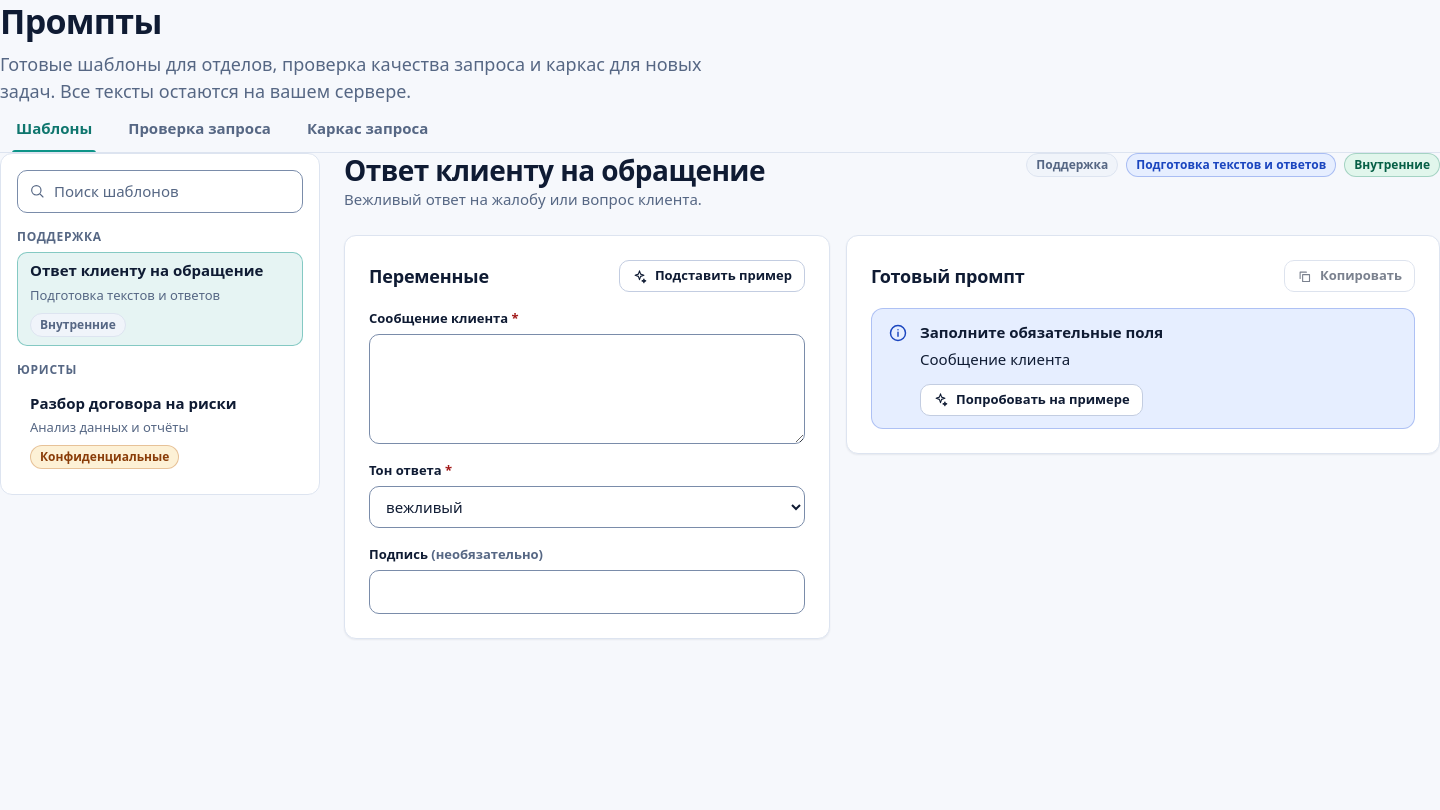
Scenario: PromptsPage: проверка и каркас › каркас: собирает текст и по кнопке «Проверить» отправляет его в линтер
Click the tab "Каркас запроса" at coordinates (368, 128), box [291, 104, 444, 152]
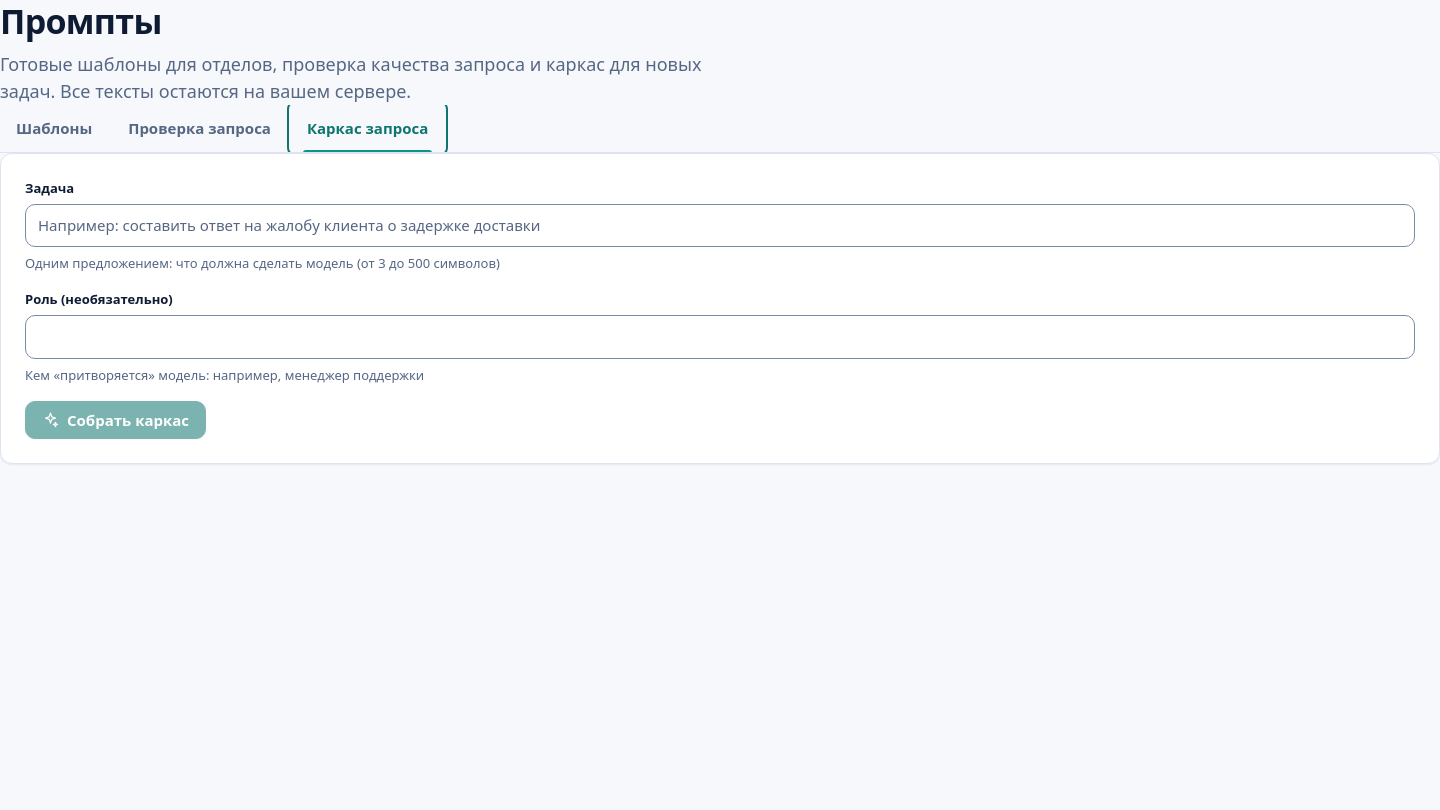
Type "проверить договор" into the field labelled "Задача" at coordinates (720, 226), box [25, 204, 1415, 247]
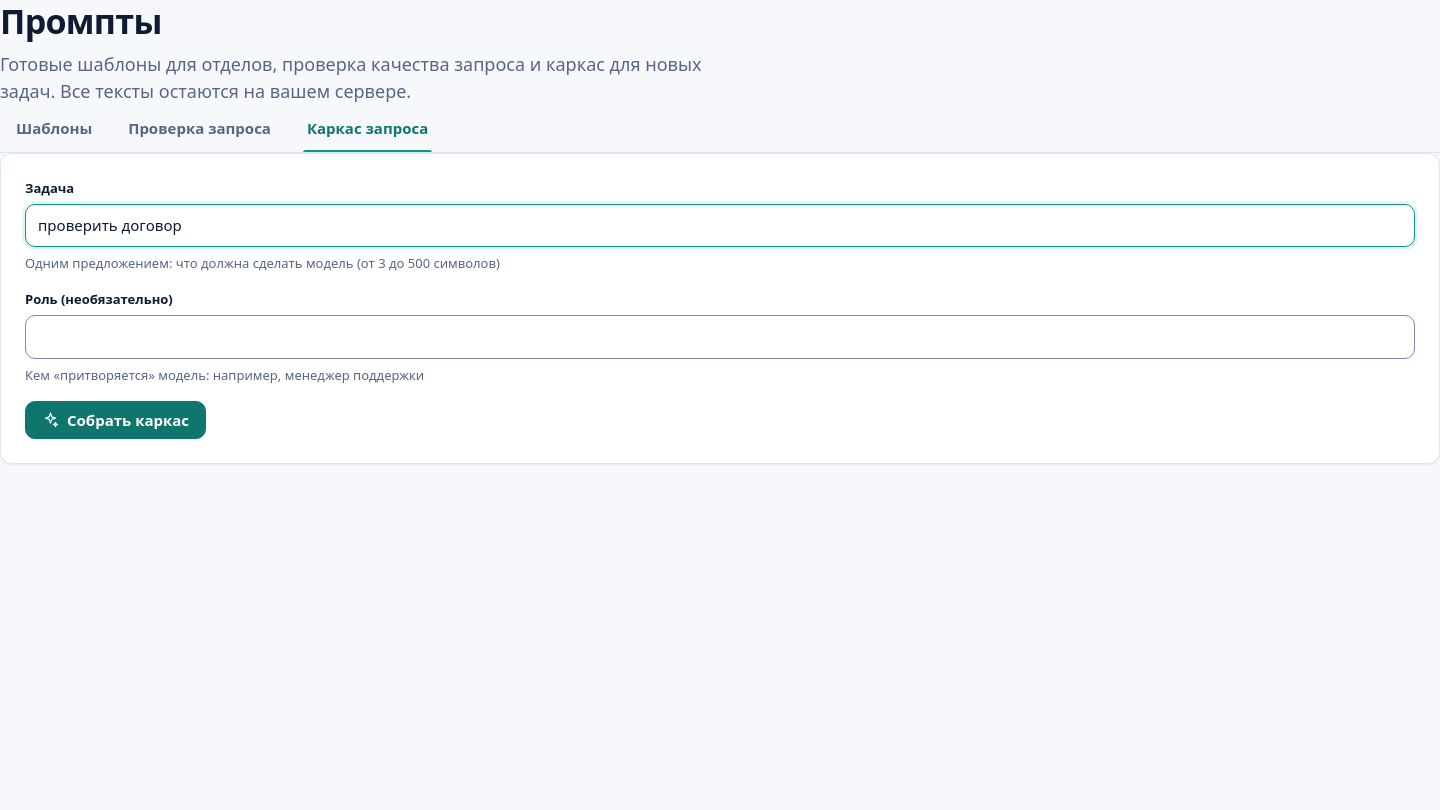
Type "Юрист" into the field labelled "Роль (необязательно)" at coordinates (720, 337), box [25, 315, 1415, 359]
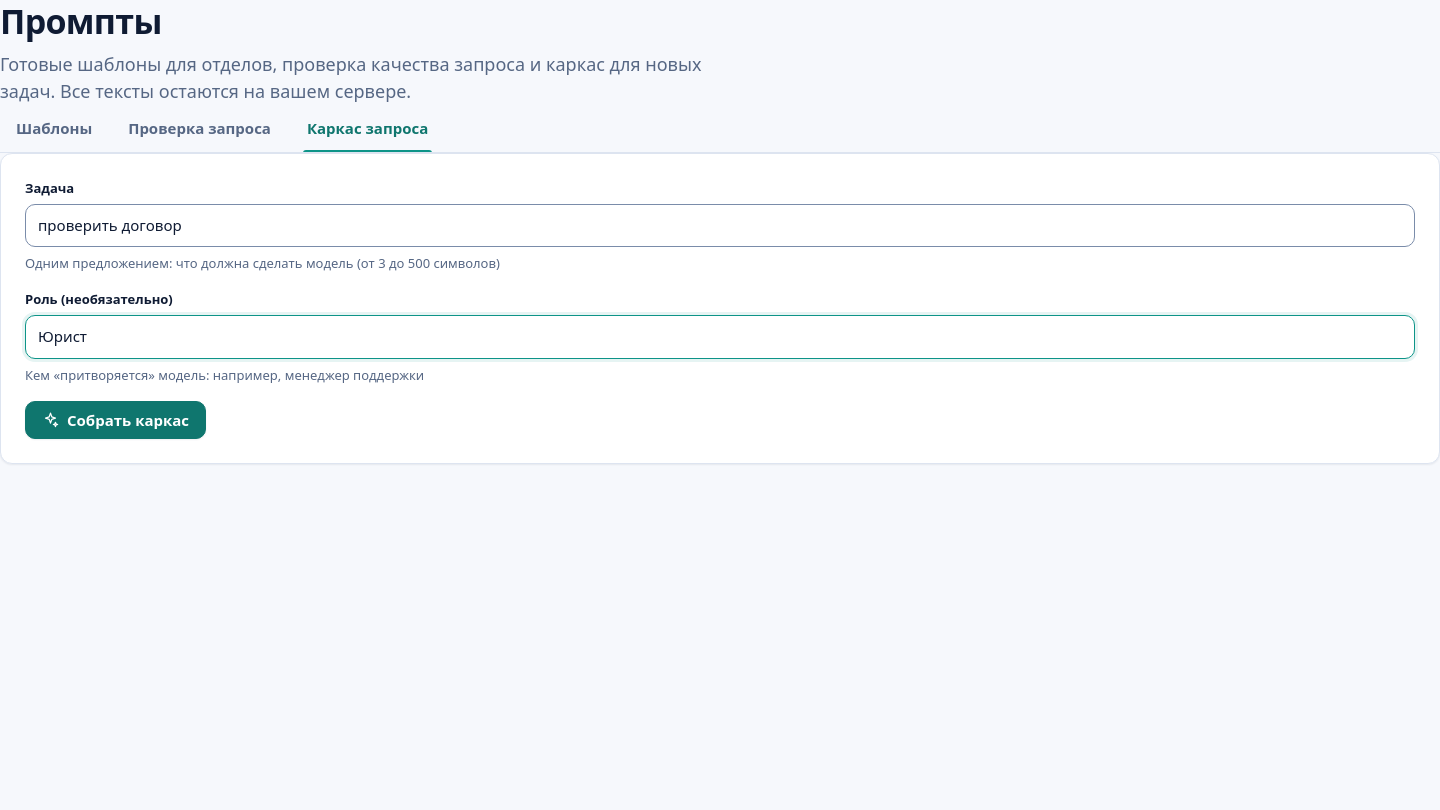
Click the button "Собрать каркас" at coordinates (116, 420), box [25, 401, 206, 439]
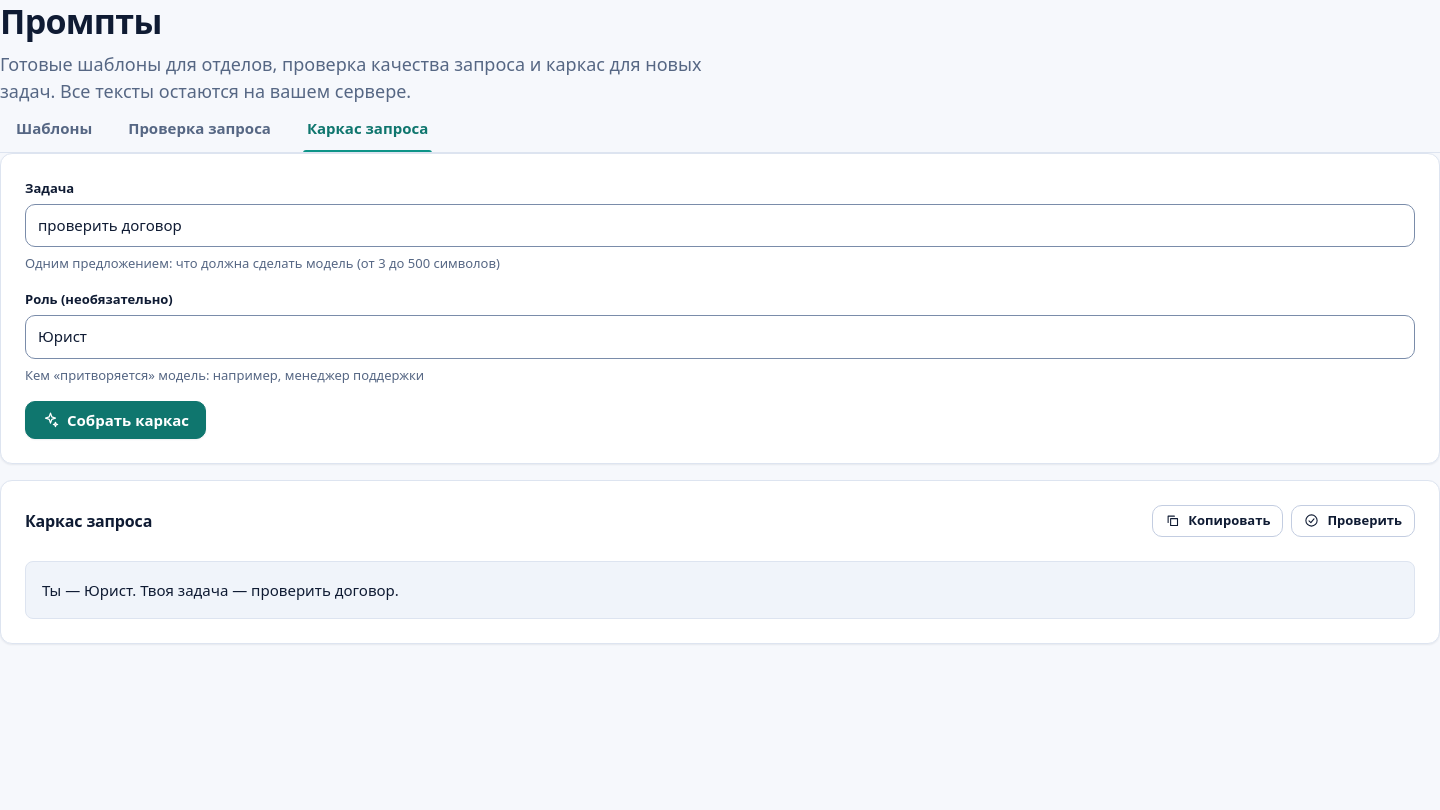
Expected: the text with test id "scaffold-text" reads "Ты — Юрист. Твоя задача — проверить договор.", [42, 580, 399, 600]
Click the button "Проверить" at coordinates (1353, 521), box [1291, 505, 1415, 537]
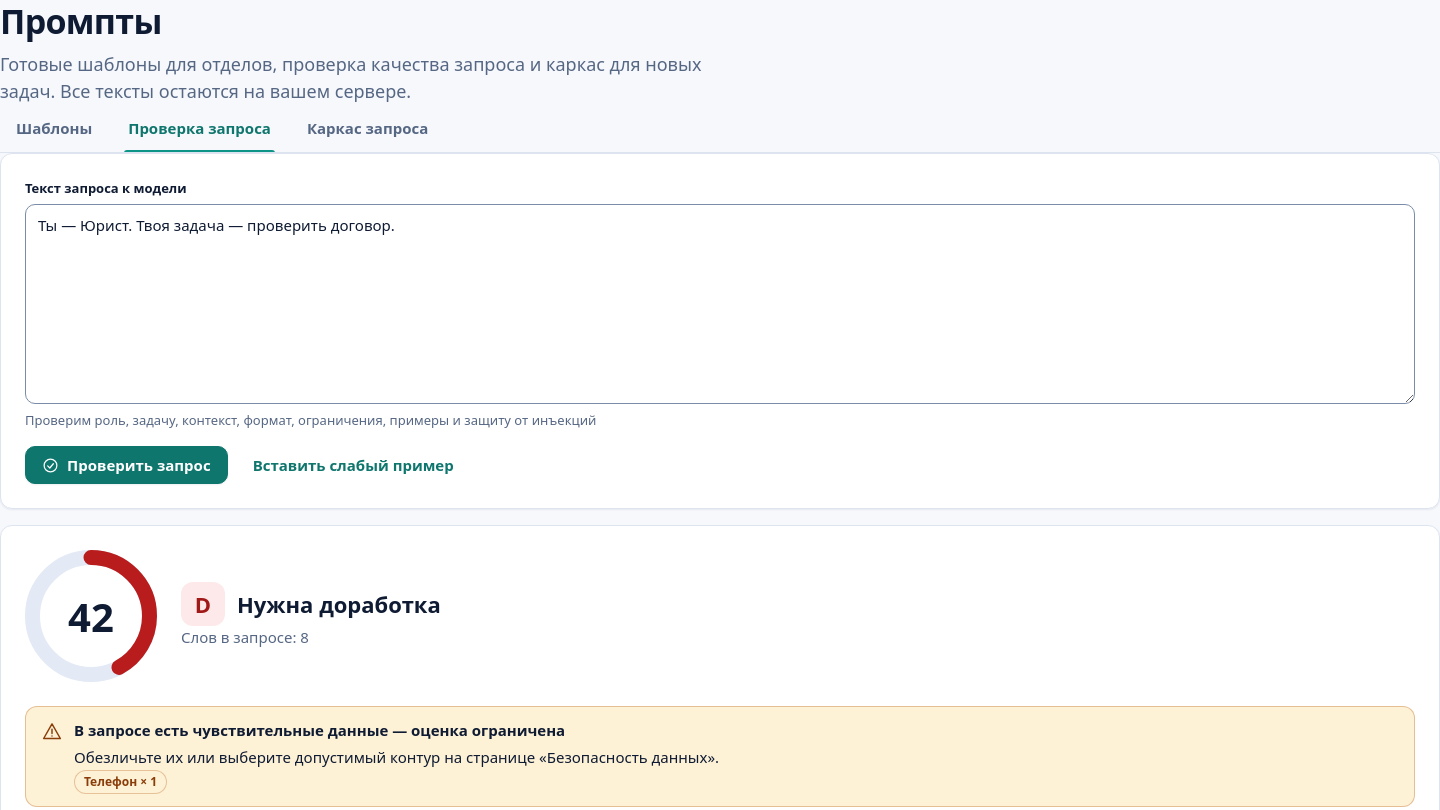
Expected: the text box labelled "Текст запроса к модели" holds "Ты — Юрист. Твоя задача — проверить договор.", [25, 204, 1415, 404]
